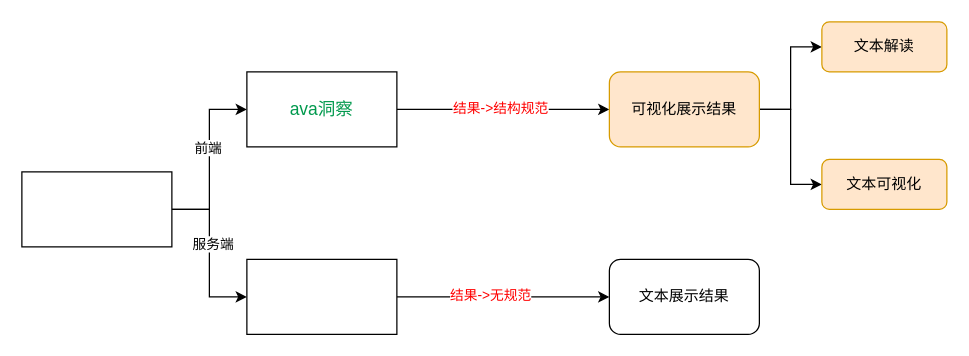
The diagram is 969 pixels wide and 356 high, and some of its shapes have lost their labels. Each missing label, with the centre of its shape:
LLM洞察: point 321,296
数据洞察: point 96,209
